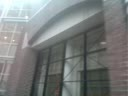window: (0, 0, 20, 93)
